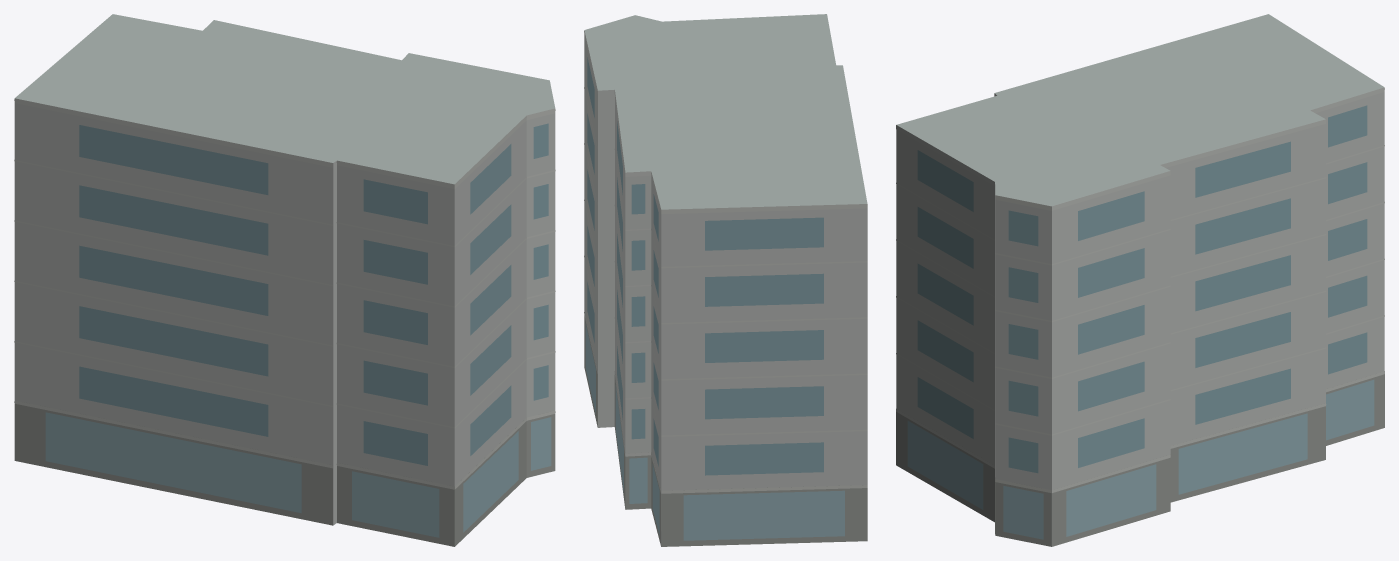
Rendered from survey-upis-32782014.glb.
The picture shows the model from 3 angles, left to right: view 1: azimuth 30°, elevation 25°; view 2: azimuth 150°, elevation 25°; view 3: azimuth 270°, elevation 25°; orthographic projection. The views are drawn at different scales.
Visible parts, largest first — view 1: survey-upis-32782014.tmp; view 2: survey-upis-32782014.tmp; view 3: survey-upis-32782014.tmp.
Part boxes in pixels (x1=…): survey-upis-32782014.tmp: x1=14, y1=14, x2=555, y2=546; survey-upis-32782014.tmp: x1=584, y1=14, x2=867, y2=546; survey-upis-32782014.tmp: x1=896, y1=14, x2=1384, y2=546.
Size of the model in its own units: 22.14 by 18.25 by 23.75.
